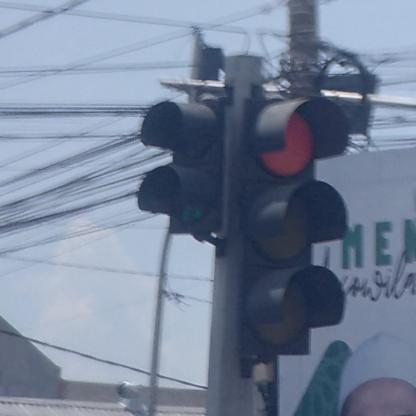red: (244, 97, 348, 355)
